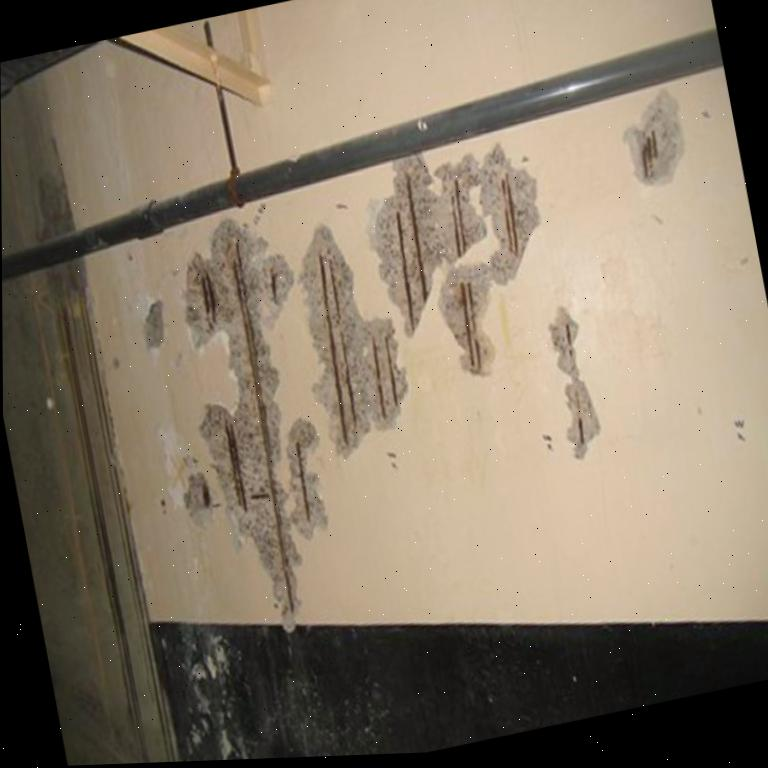exposed_rebar: (232, 248, 295, 612), (318, 254, 349, 446), (329, 260, 356, 421), (405, 173, 428, 300), (395, 212, 416, 330), (459, 282, 482, 373), (224, 420, 247, 511), (499, 172, 519, 255), (293, 439, 311, 522), (370, 333, 386, 418), (450, 178, 467, 256), (636, 130, 659, 180), (384, 335, 399, 405), (200, 272, 217, 324), (269, 264, 279, 304), (202, 475, 211, 506), (564, 322, 573, 344), (577, 417, 584, 444)
spalling: (185, 219, 326, 623), (372, 145, 538, 373), (301, 226, 407, 454), (549, 306, 600, 457), (623, 89, 683, 185), (182, 470, 213, 523), (143, 299, 164, 347)
